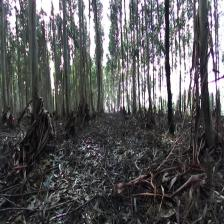trunk: (198, 11, 216, 145), (165, 15, 175, 133), (28, 10, 40, 108), (62, 25, 70, 114)
